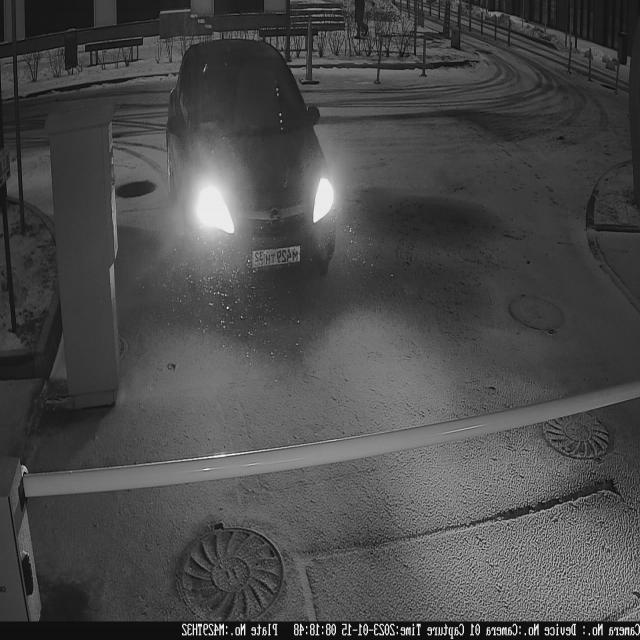car-plate-numbers: (250, 241, 304, 272)
